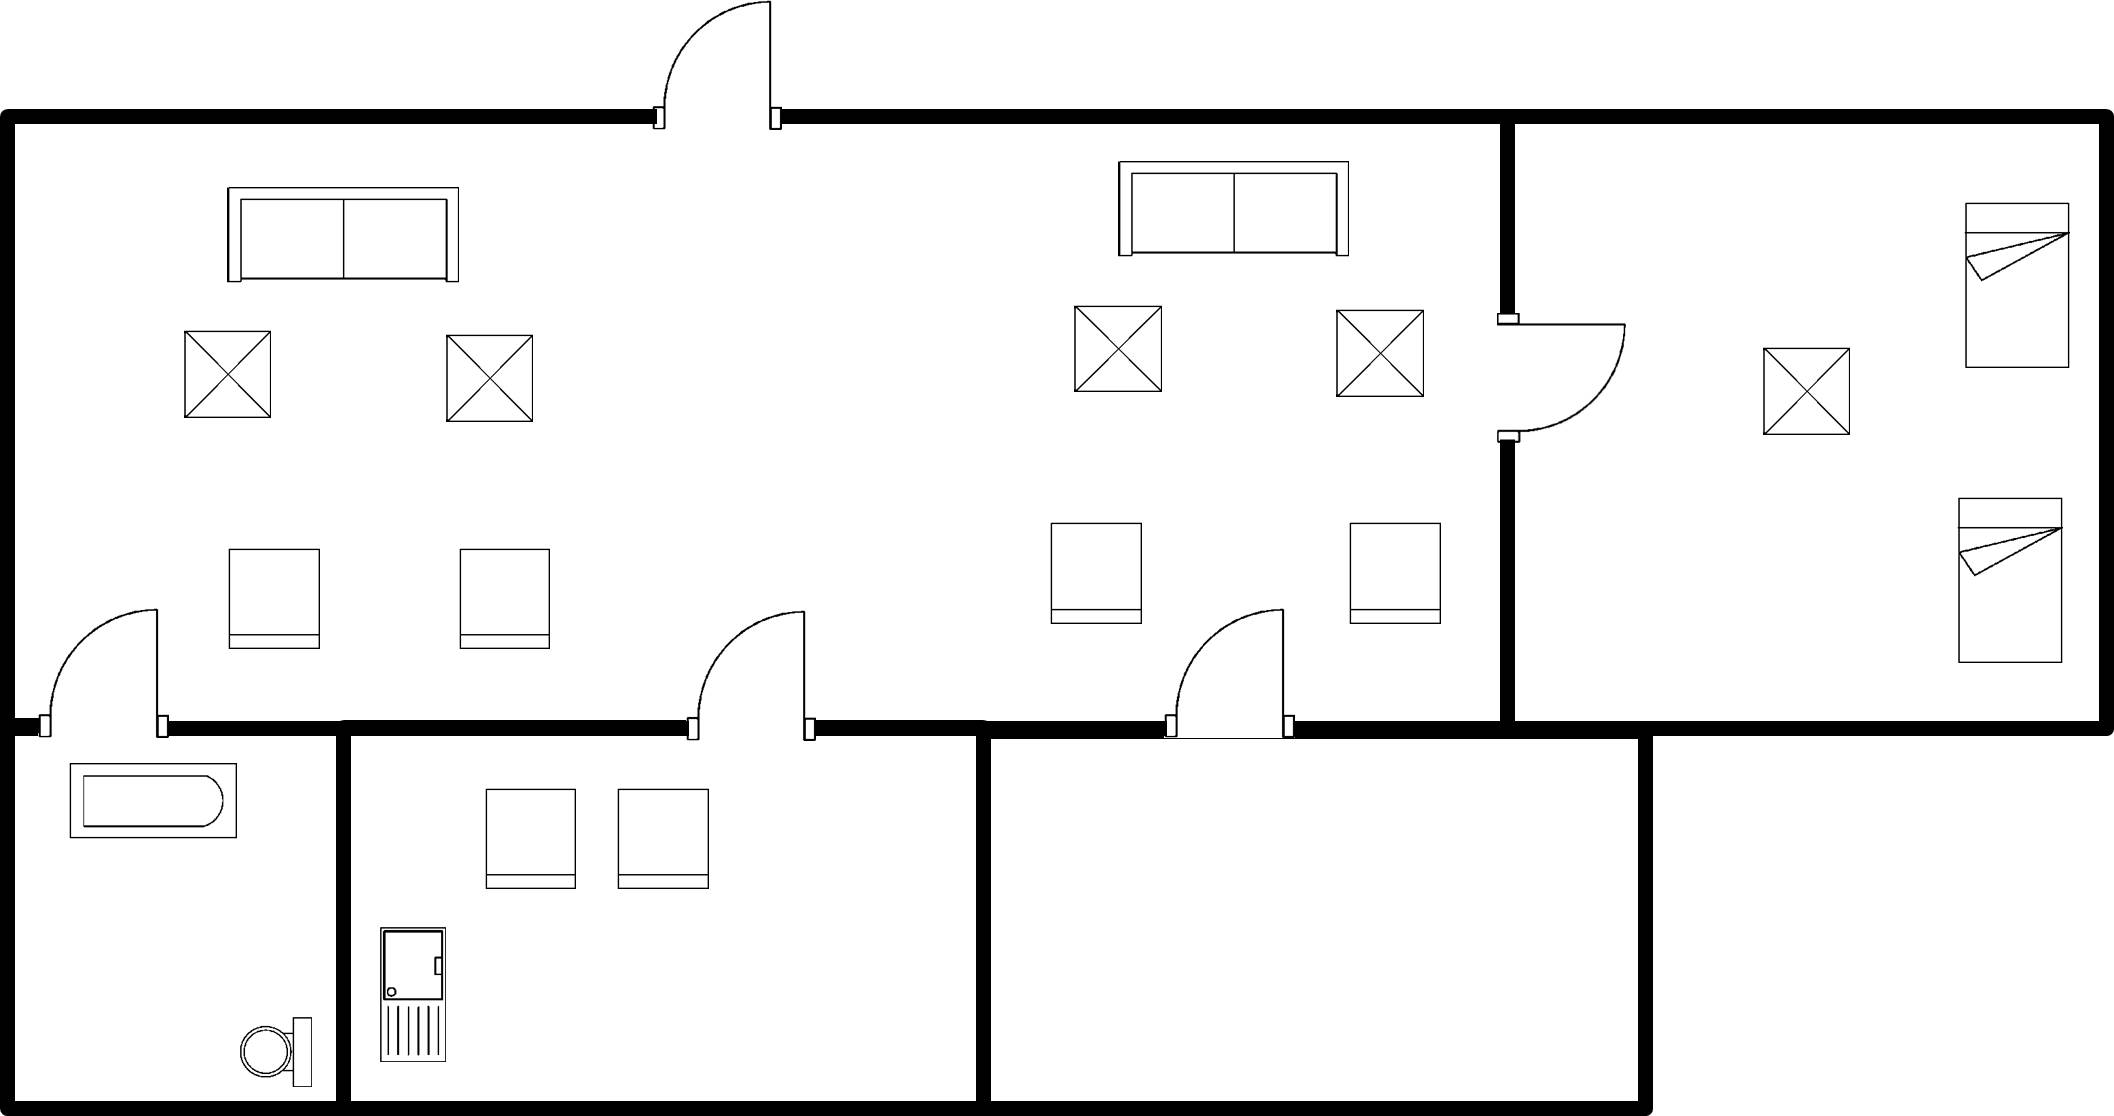bed: (1945, 485, 2077, 673), (1957, 194, 2080, 381)
coffee_table: (434, 324, 547, 434), (169, 321, 281, 431), (1328, 300, 1438, 409), (1066, 297, 1177, 403), (1751, 338, 1863, 444)
large_sink: (231, 1008, 322, 1097)
large_sofa: (215, 179, 468, 297), (1104, 153, 1357, 267)
sink: (369, 918, 457, 1073)
small_sofa: (472, 779, 591, 900), (1338, 512, 1453, 638), (1041, 512, 1153, 638), (218, 537, 331, 659), (609, 779, 722, 900), (450, 538, 562, 658)
tub: (59, 752, 248, 855)
